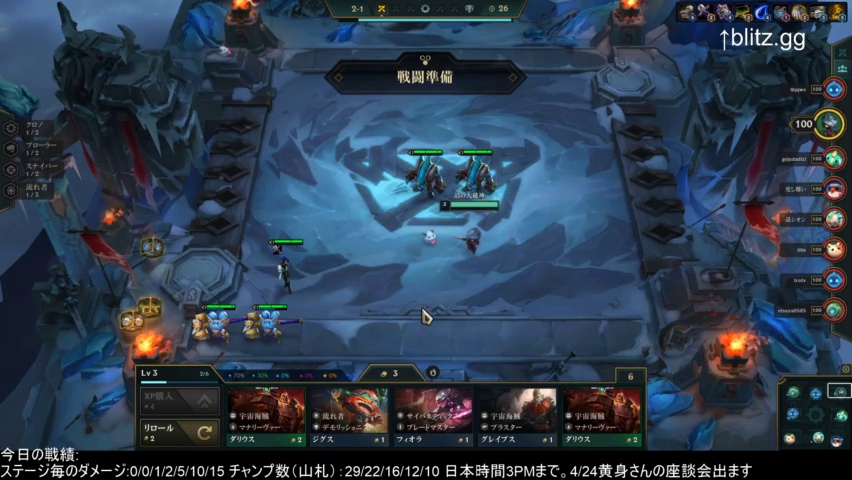caitlyn:BF: (262, 231, 304, 299)
poppy: (243, 298, 300, 357), (190, 301, 242, 352)
